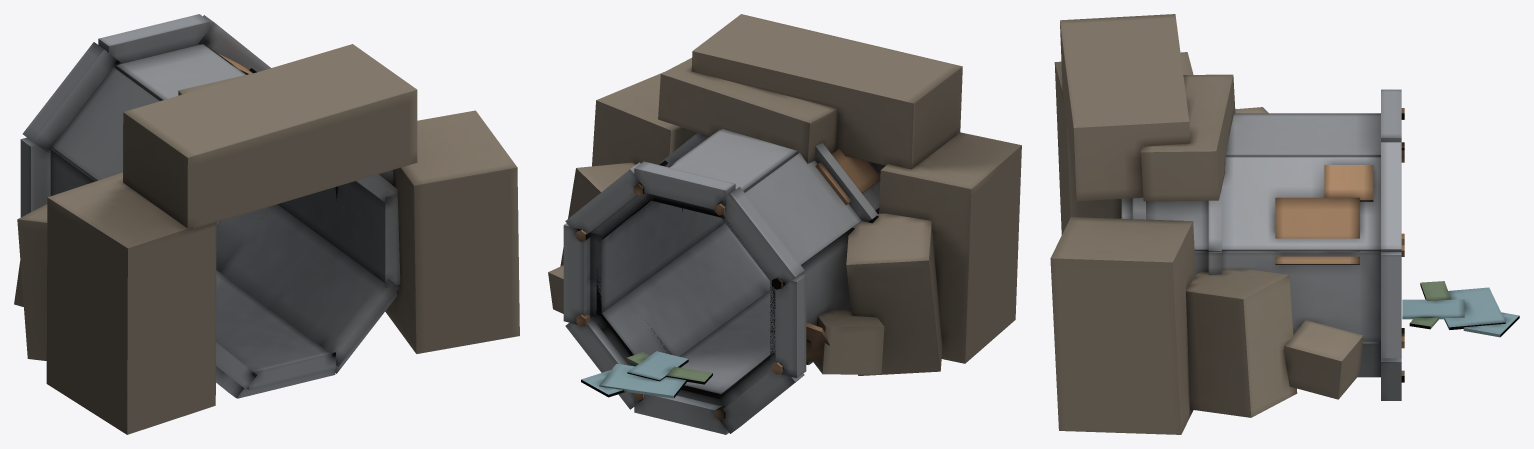
The model's file is pipemouth.glb.
3 renders of one model, left to right at view 1: azimuth 30°, elevation 25°; view 2: azimuth 150°, elevation 25°; view 3: azimuth 270°, elevation 25°, orthographic. The views are drawn at different scales.
Visible parts, largest first — view 1: pipemouth; view 2: pipemouth; view 3: pipemouth.
Part boxes in pixels (left/top/right/bottom): pipemouth: left=14, top=14, right=519, bottom=434; pipemouth: left=548, top=14, right=1021, bottom=434; pipemouth: left=1050, top=14, right=1519, bottom=434.
Size of the model in its own units: 10.82 by 7.43 by 10.53.
6 materials, 6 textured.
